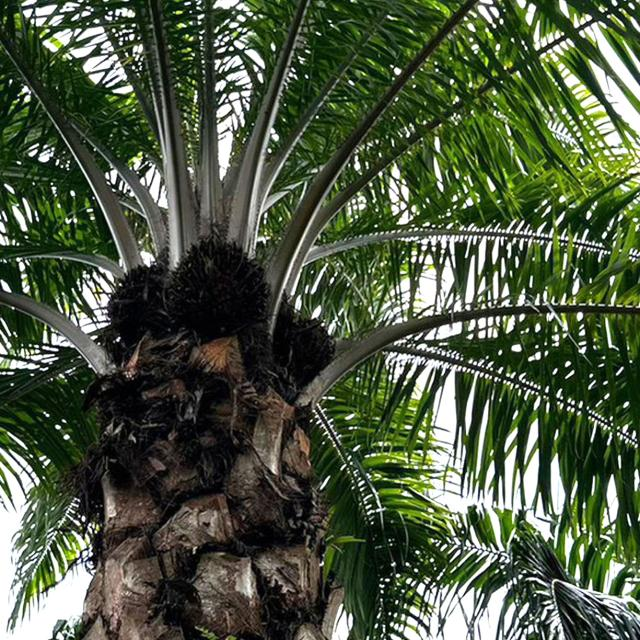almost: (164, 230, 273, 342)
